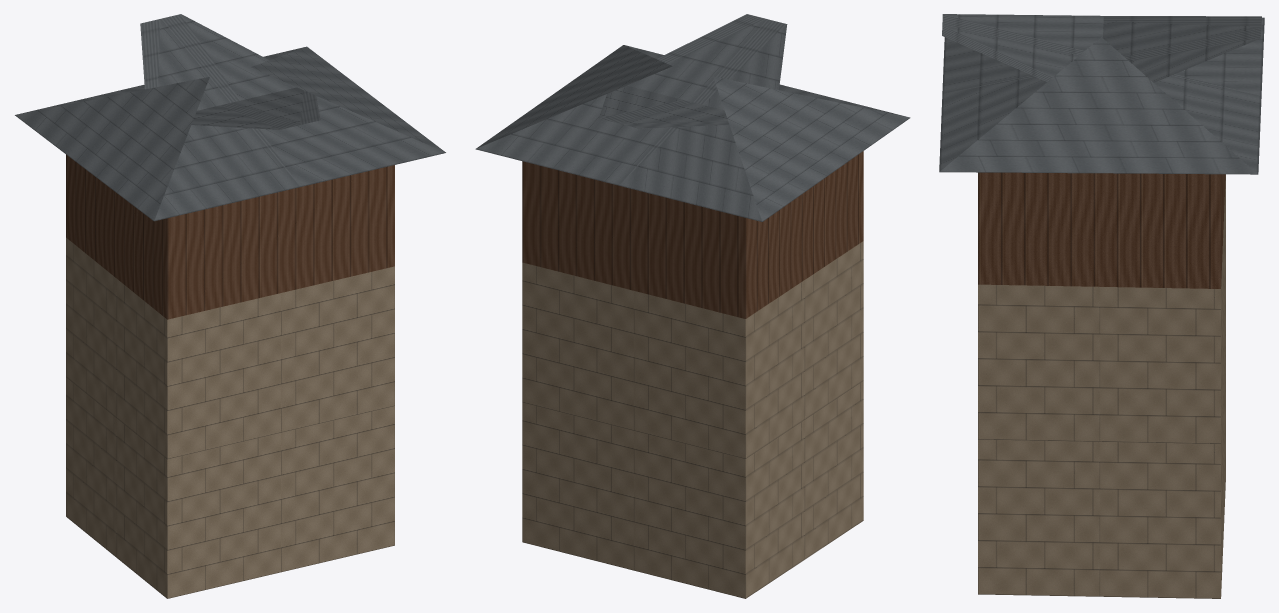
File: bld_c2_19_476.gltf
3 views of the same model, side by side, from view 1: azimuth 30°, elevation 25°; view 2: azimuth 150°, elevation 25°; view 3: azimuth 270°, elevation 25° (orthographic). The views are drawn at different scales.
Parts seen in each view (by area): view 1: bld_c2_19_476; view 2: bld_c2_19_476; view 3: bld_c2_19_476.
Boxes of the visible parts, left/top/right/bottom form: bld_c2_19_476: left=15, top=14, right=445, bottom=598; bld_c2_19_476: left=475, top=14, right=910, bottom=598; bld_c2_19_476: left=939, top=14, right=1264, bottom=598.
Bounding box in the file's own units: 4.96 × 7.4 × 4.29.
3 materials, 3 textured.
